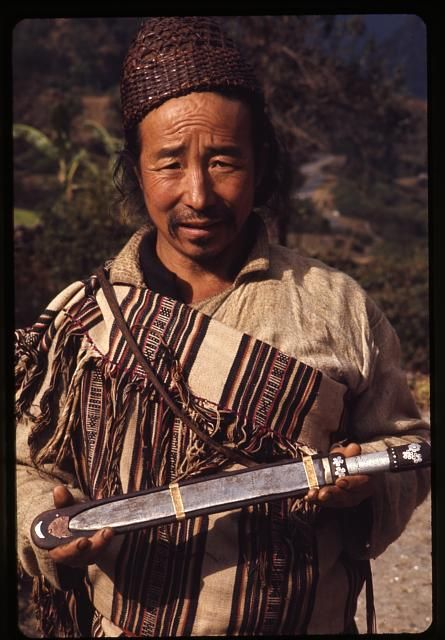knife: (61, 439, 433, 538)
person: (12, 16, 421, 634)
